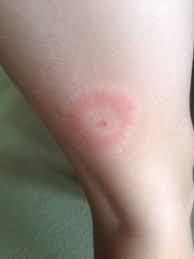Tick: (66, 87, 136, 155)
